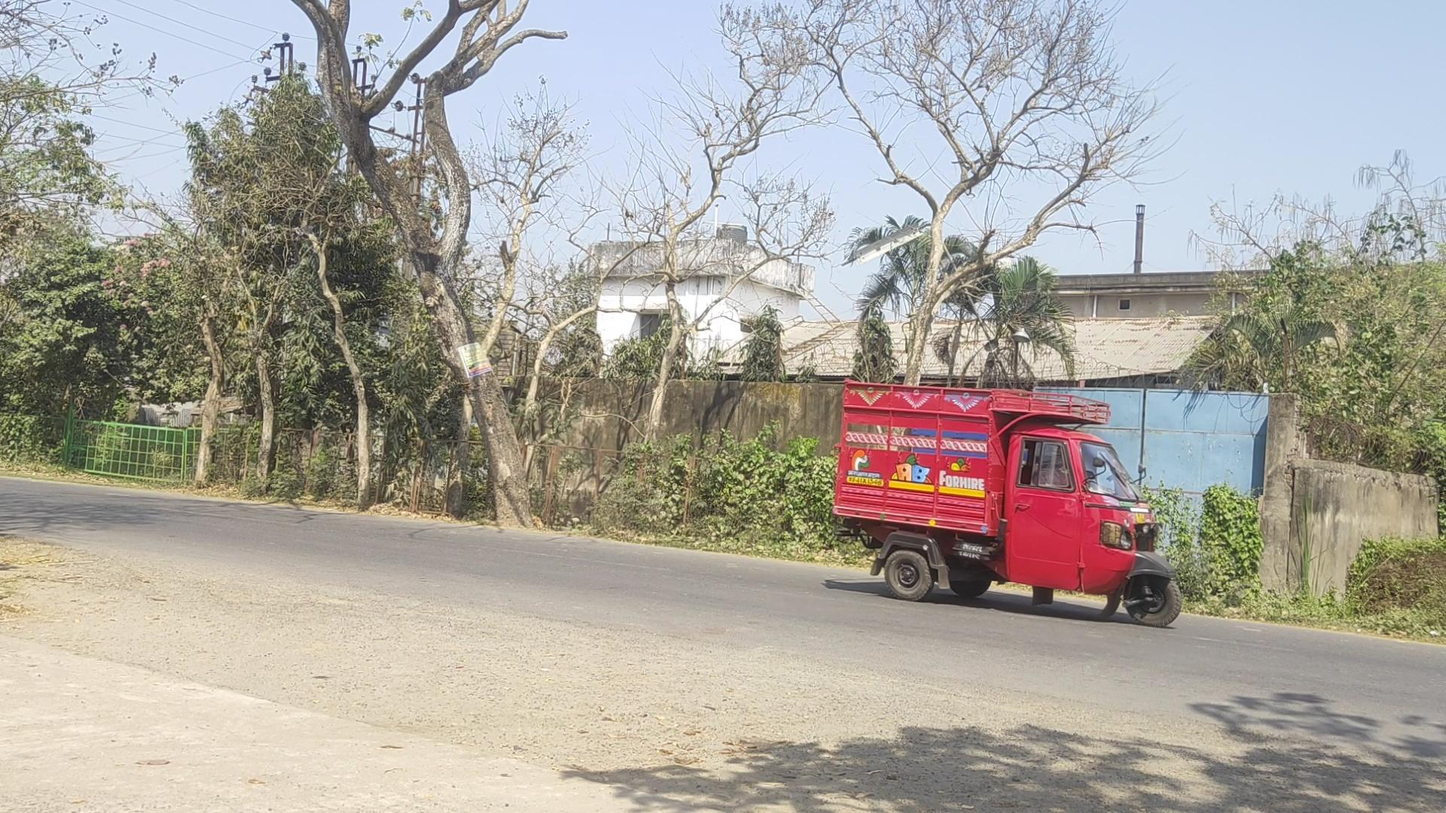van: (831, 379, 1181, 627)
